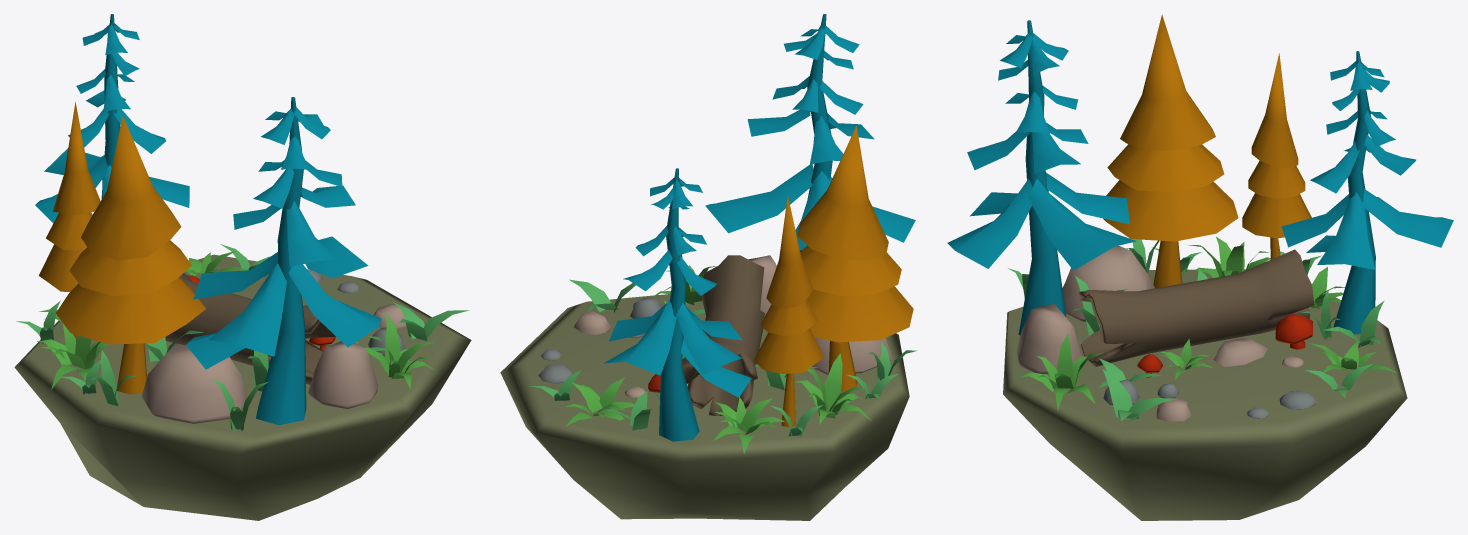
Rendered from Wan Wai Sonn_A1_CRI19.fbx.
The picture shows the model from 3 angles, left to right: view 1: azimuth 30°, elevation 25°; view 2: azimuth 150°, elevation 25°; view 3: azimuth 270°, elevation 25°; orthographic projection. The views are drawn at different scales.
Parts seen in each view (by area): view 1: ground, tree_2_polySurface2, polySurface2, tree_2_polySurface1, big_stone_polySurface1, polySurface1, big_stone_polySurface2, trunk, grass_1_polySurface3, grass_1_polySurface2, grass_2_polySurface4, grass_2_polySurface6 (+3 smaller); view 2: ground, polySurface2, tree_2_polySurface1, tree_2_polySurface2, trunk, polySurface1, grass_1_polySurface3, grass_1_polySurface1, big_stone_polySurface1, grass_1_polySurface4, grass_2_polySurface4, medium_n_small_stone_polySurface2 (+5 smaller); view 3: ground, tree_2_polySurface2, polySurface2, trunk, tree_2_polySurface1, polySurface1, big_stone_polySurface1, big_stone_polySurface2, grass_1_polySurface2, grass_1_polySurface3, grass_2_polySurface4, big_stone_polySurface3 (+8 smaller).
Boxes of the visible parts, left/top/right/bottom form: ground: left=14, top=254, right=471, bottom=520; tree_2_polySurface2: left=186, top=97, right=381, bottom=425; polySurface2: left=55, top=115, right=205, bottom=394; tree_2_polySurface1: left=35, top=14, right=189, bottom=223; big_stone_polySurface1: left=142, top=343, right=247, bottom=423; polySurface1: left=39, top=101, right=100, bottom=339; big_stone_polySurface2: left=308, top=341, right=378, bottom=408; trunk: left=165, top=273, right=335, bottom=384; grass_1_polySurface3: left=37, top=323, right=107, bottom=389; grass_1_polySurface2: left=364, top=314, right=435, bottom=388; grass_2_polySurface4: left=393, top=302, right=469, bottom=340; grass_2_polySurface6: left=91, top=350, right=137, bottom=406; ground: left=500, top=294, right=909, bottom=520; polySurface2: left=797, top=125, right=913, bottom=391; tree_2_polySurface1: left=604, top=168, right=751, bottom=441; tree_2_polySurface2: left=705, top=14, right=915, bottom=251; trunk: left=682, top=255, right=764, bottom=415; polySurface1: left=754, top=195, right=823, bottom=427; grass_1_polySurface3: left=794, top=353, right=871, bottom=424; grass_1_polySurface1: left=713, top=397, right=784, bottom=453; big_stone_polySurface1: left=812, top=337, right=892, bottom=374; grass_1_polySurface4: left=565, top=377, right=634, bottom=426; grass_2_polySurface4: left=569, top=279, right=635, bottom=312; medium_n_small_stone_polySurface2: left=538, top=349, right=572, bottom=383; ground: left=1003, top=269, right=1407, bottom=520; tree_2_polySurface2: left=947, top=20, right=1136, bottom=335; polySurface2: left=1103, top=14, right=1238, bottom=288; trunk: left=1079, top=249, right=1314, bottom=366; tree_2_polySurface1: left=1281, top=51, right=1453, bottom=334; polySurface1: left=1242, top=53, right=1311, bottom=259; big_stone_polySurface1: left=1062, top=245, right=1154, bottom=321; big_stone_polySurface2: left=1016, top=304, right=1080, bottom=373; grass_1_polySurface2: left=1017, top=334, right=1103, bottom=410; grass_1_polySurface3: left=1188, top=236, right=1270, bottom=277; grass_2_polySurface4: left=1102, top=368, right=1177, bottom=421; big_stone_polySurface3: left=1213, top=337, right=1267, bottom=366.
Bounding box in the file's own units: 841 × 953 × 991.
